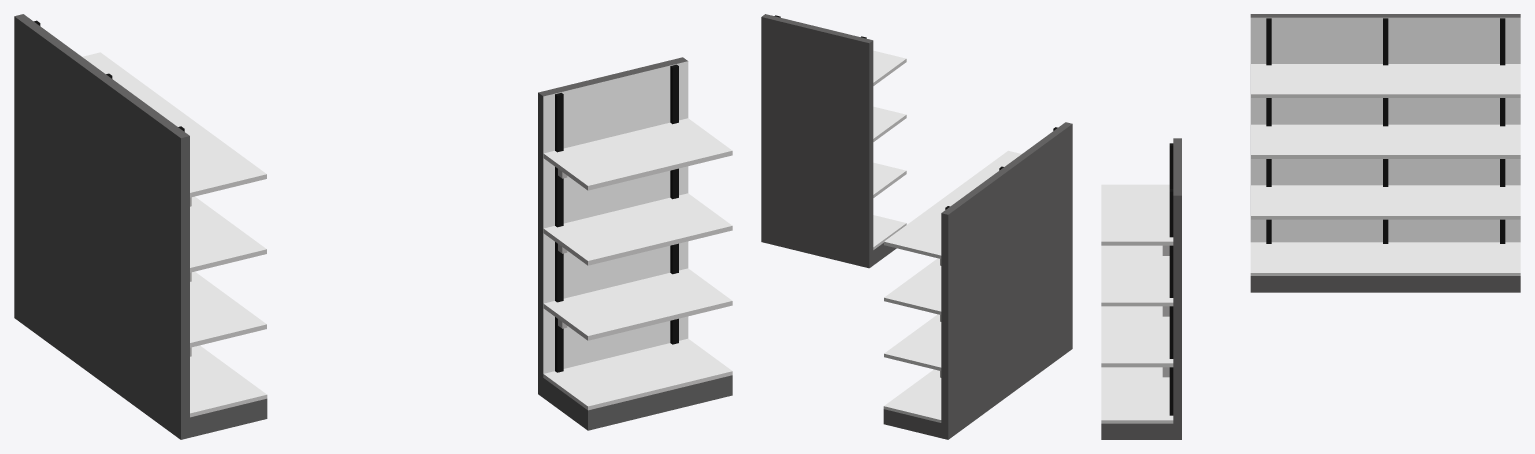
File: shelf2.fbx
3 renders of one model, left to right at view 1: azimuth 30°, elevation 25°; view 2: azimuth 150°, elevation 25°; view 3: azimuth 270°, elevation 25°, orthographic. The views are drawn at different scales.
Visible parts, largest first — view 1: Cube.044, Cube.018; view 2: Cube.044, Cube.018; view 3: Cube.044, Cube.018.
Boxes of the visible parts, x1,y1,x2,y2 form: Cube.044: (14, 14, 267, 439); Cube.018: (538, 57, 732, 430); Cube.044: (883, 122, 1072, 439); Cube.018: (761, 14, 906, 268); Cube.044: (1250, 14, 1520, 292); Cube.018: (1101, 138, 1181, 439).
Size of the model in its own units: 107 by 67.32 by 105.
Materials: 1 (1 with a texture image).
